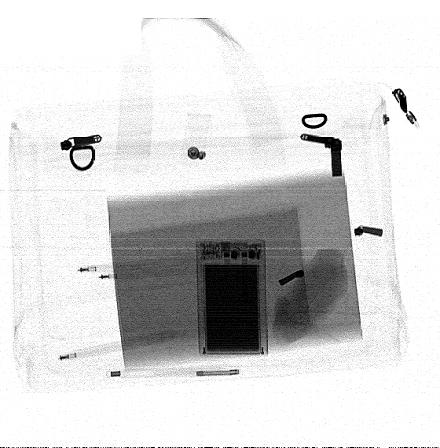Powerbank: (196, 240, 269, 356)
